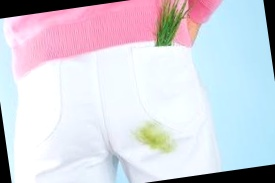earth: (134, 122, 171, 156)
